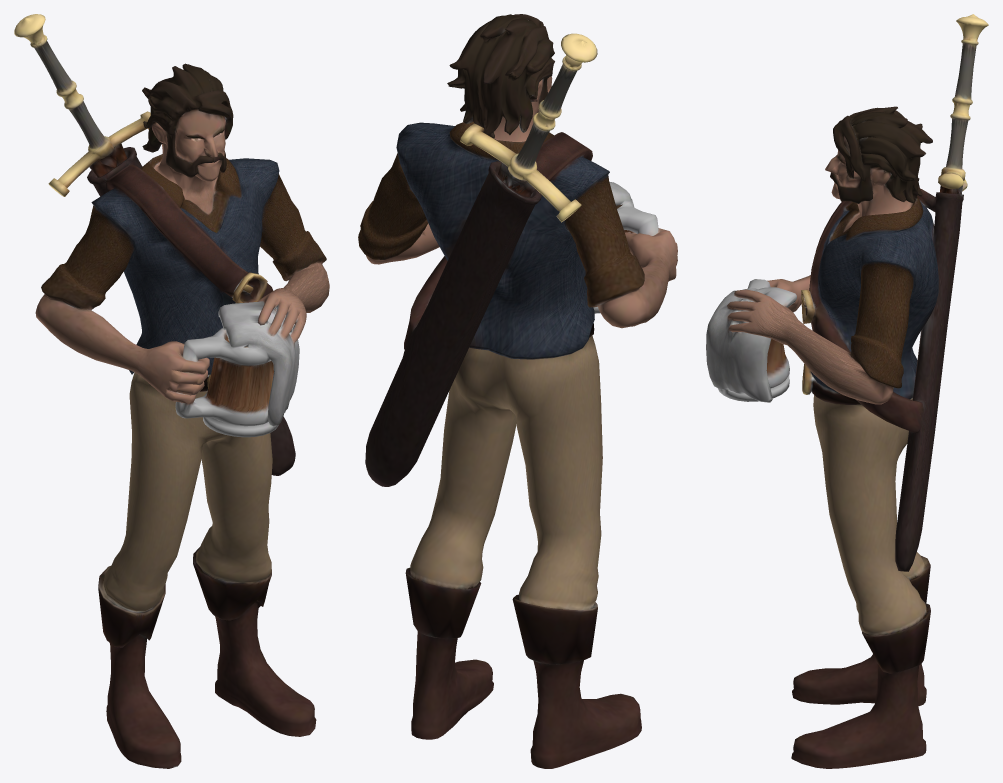
File: MZ4250 - Durnan - Human Male.glb
3 renders of one model, left to right at view 1: azimuth 30°, elevation 25°; view 2: azimuth 150°, elevation 25°; view 3: azimuth 270°, elevation 25°, orthographic. The views are drawn at different scales.
Parts seen in each view (by area): view 1: default; view 2: default; view 3: default.
Boxes of the visible parts, box(x1,y1,x2,y2) form: default: box(14, 14, 329, 768); default: box(358, 14, 677, 768); default: box(706, 14, 988, 768).
Size of the model in its own units: 0.4789 by 1.17 by 0.4561.
1 material, 1 textured.
